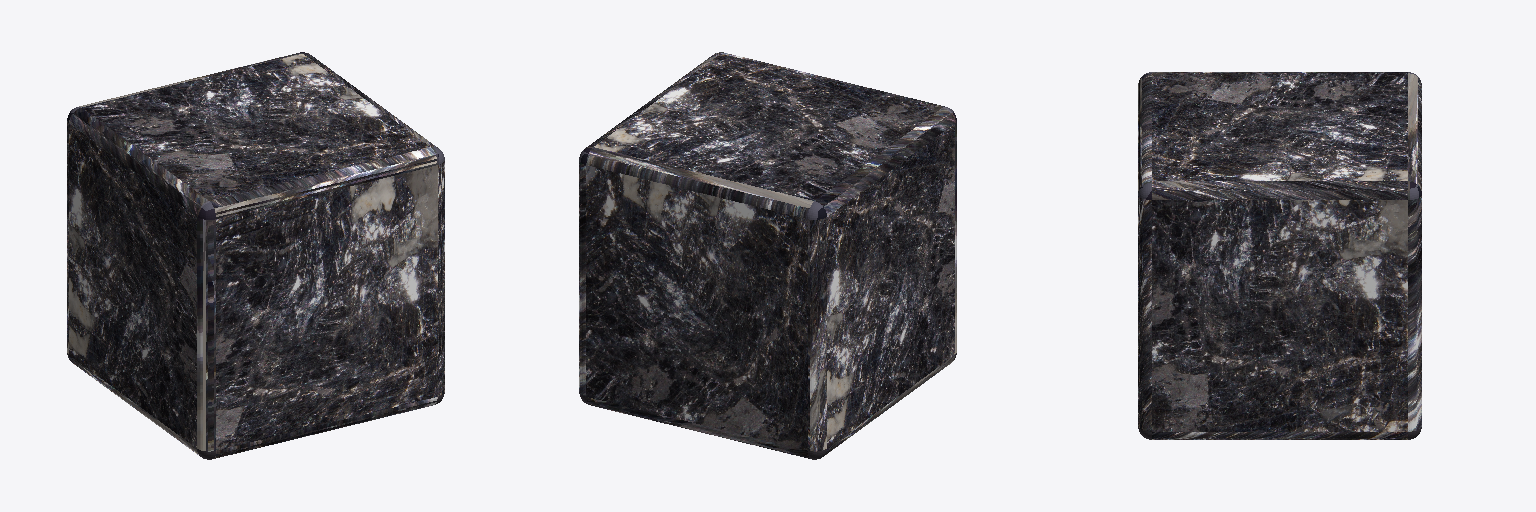
3 views of the same model, side by side, from view 1: azimuth 30°, elevation 25°; view 2: azimuth 150°, elevation 25°; view 3: azimuth 270°, elevation 25° (orthographic).
Visible parts, largest first — view 1: Cube; view 2: Cube; view 3: Cube.
Boxes of the visible parts, box(x1,y1,x2,y2) form: Cube: box(67, 52, 444, 459); Cube: box(579, 52, 956, 459); Cube: box(1138, 72, 1421, 439).
Bounding box in the file's own units: 2 × 2 × 2.
Materials: 1 (1 with a texture image).